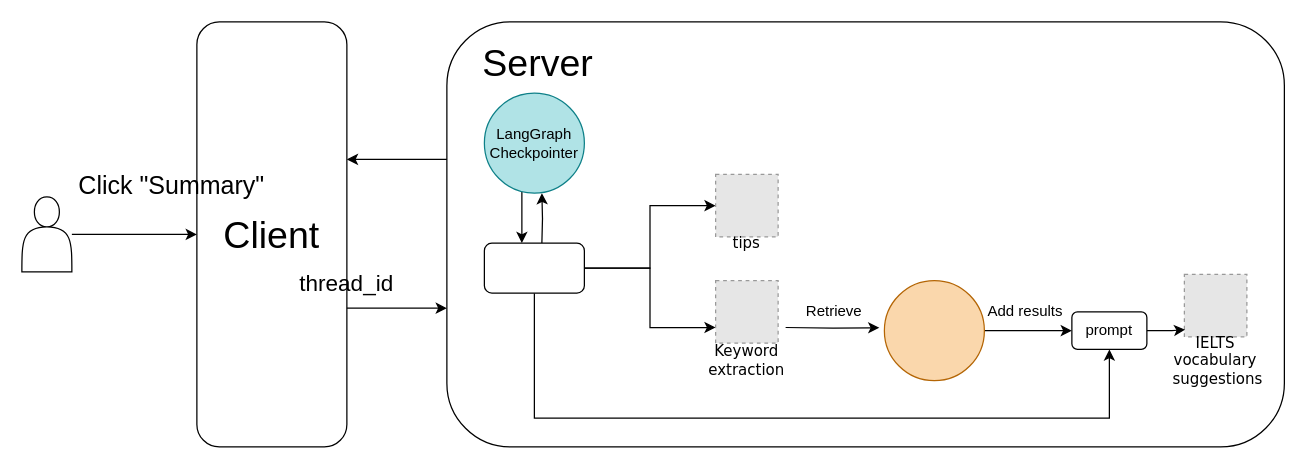
Some shapes in this 1306 by 469 pixel diagram are drawn without their labels. Grey dashed boxes stand in for pictures. Each missing label, with the centre of its shape:
corrections: [533,267]
Vector Store: [933,330]
